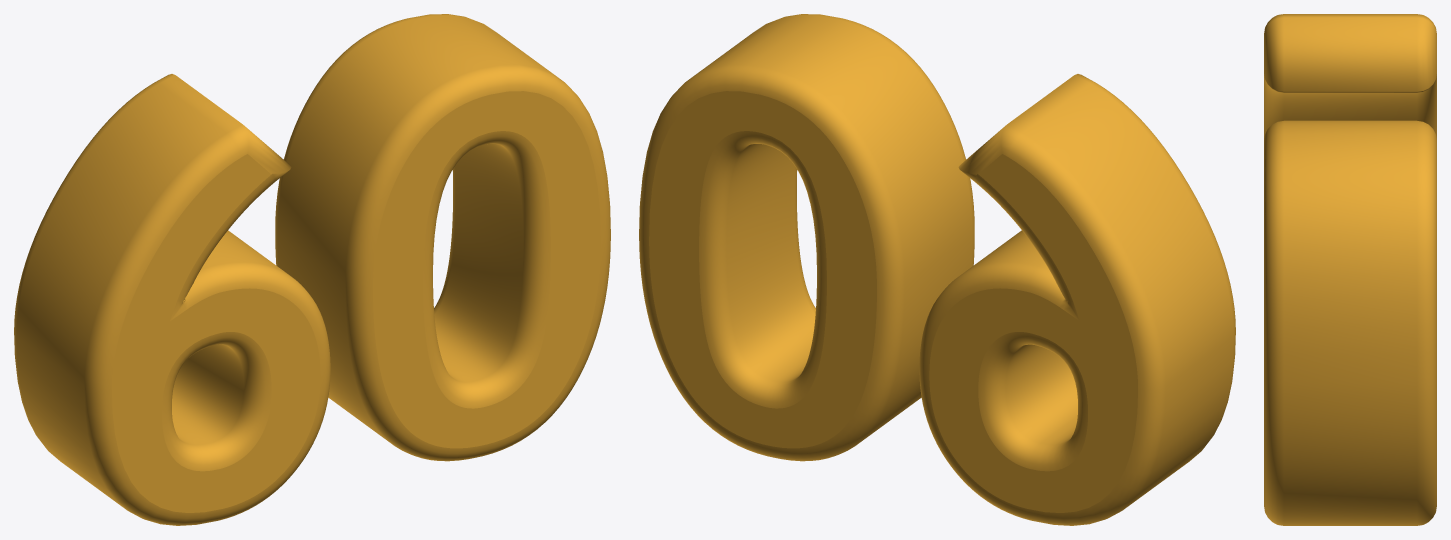
The picture shows the model from 3 angles, left to right: view 1: azimuth 30°, elevation 25°; view 2: azimuth 150°, elevation 25°; view 3: azimuth 270°, elevation 25°; orthographic projection.
Visible parts, largest first — view 1: Text; view 2: Text; view 3: Text.
Boxes of the visible parts, box(x1,y1,x2,y2) form: Text: box(14, 14, 610, 525); Text: box(639, 14, 1235, 525); Text: box(1264, 14, 1436, 525).
Bounding box in the file's own units: 89.63 × 63.4 × 26.
